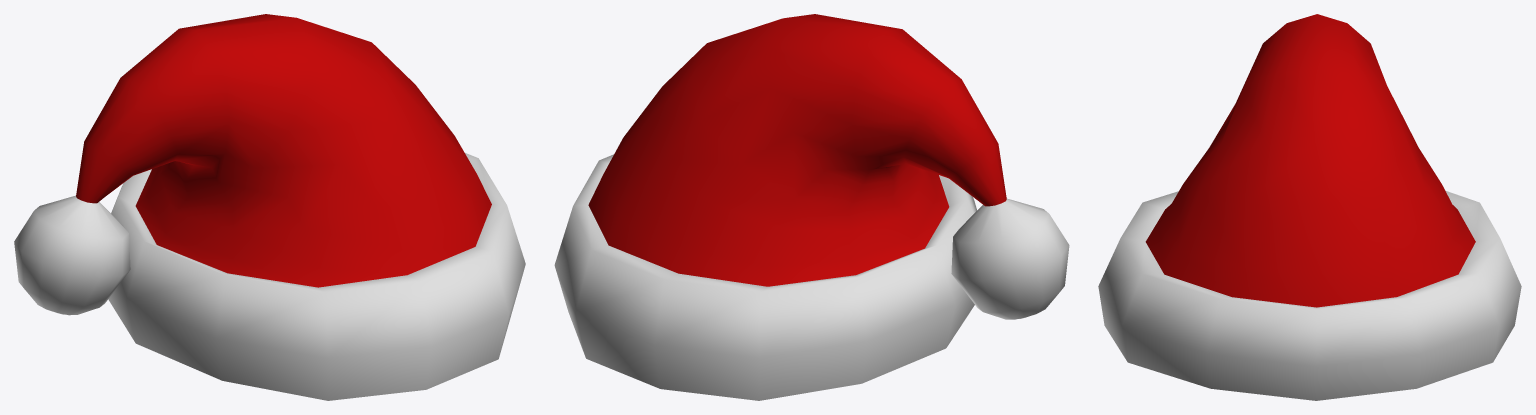
The model's file is santaHat.glb.
3 views of the same model, side by side, from view 1: azimuth 30°, elevation 25°; view 2: azimuth 150°, elevation 25°; view 3: azimuth 270°, elevation 25° (orthographic). The views are drawn at different scales.
Parts seen in each view (by area): view 1: Lowpoly_Santahat; view 2: Lowpoly_Santahat; view 3: Lowpoly_Santahat.
Boxes of the visible parts, bbox=[...] form: Lowpoly_Santahat: bbox=[14, 14, 525, 400]; Lowpoly_Santahat: bbox=[554, 14, 1069, 400]; Lowpoly_Santahat: bbox=[1098, 14, 1521, 400].
Bounding box in the file's own units: 3.09 × 1.87 × 2.71.
